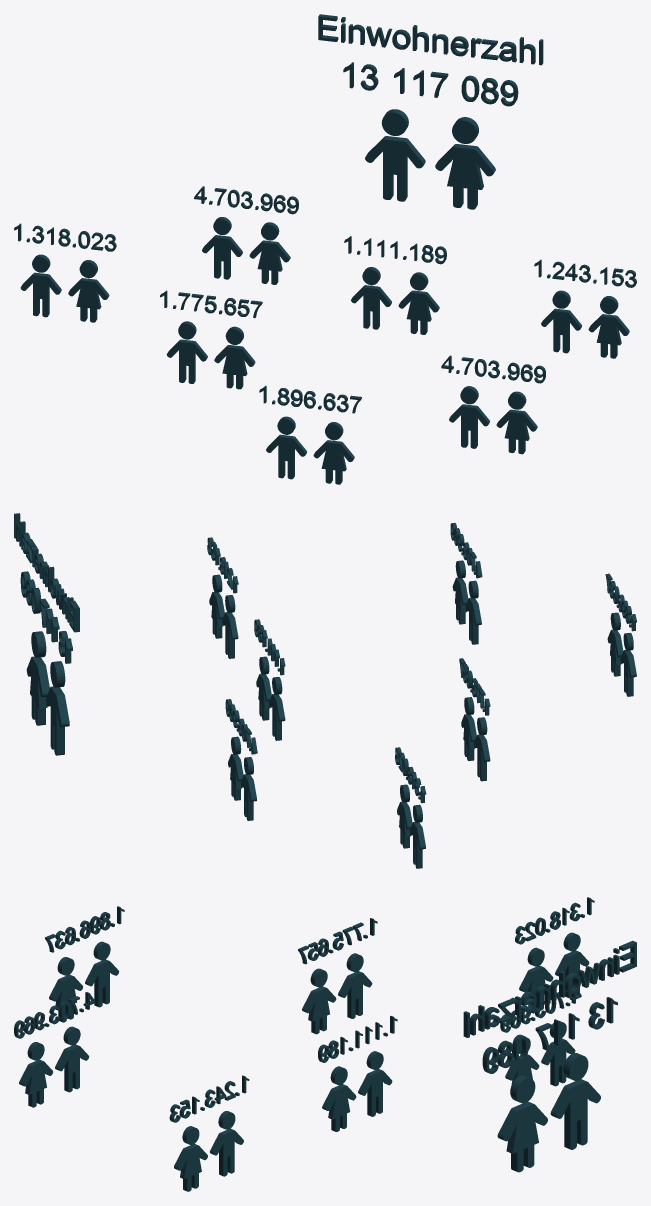
The model's file is einwohner_02.glb.
3 views of the same model, one above another, from view 1: azimuth 30°, elevation 25°; view 2: azimuth 150°, elevation 25°; view 3: azimuth 270°, elevation 25° (orthographic). The views are drawn at different scales.
Parts seen in each view (by area): view 1: Einwohner_bayern_gesamt; view 2: Einwohner_bayern_gesamt; view 3: Einwohner_bayern_gesamt.
Boxes of the visible parts, box(x1,y1,x2,y2) form: Einwohner_bayern_gesamt: box(14, 14, 636, 484); Einwohner_bayern_gesamt: box(14, 513, 636, 868); Einwohner_bayern_gesamt: box(14, 897, 636, 1191).
Size of the model in its own units: 69.37 by 28.63 by 77.13.
